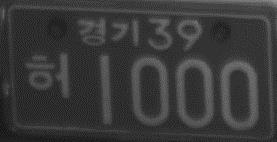0: (216, 58, 262, 132), (128, 54, 171, 126), (173, 55, 214, 129)
1: (96, 51, 119, 127)
3: (146, 14, 173, 51)
9: (175, 18, 204, 53)
경기_O: (74, 15, 142, 49)
허: (23, 52, 73, 102)
